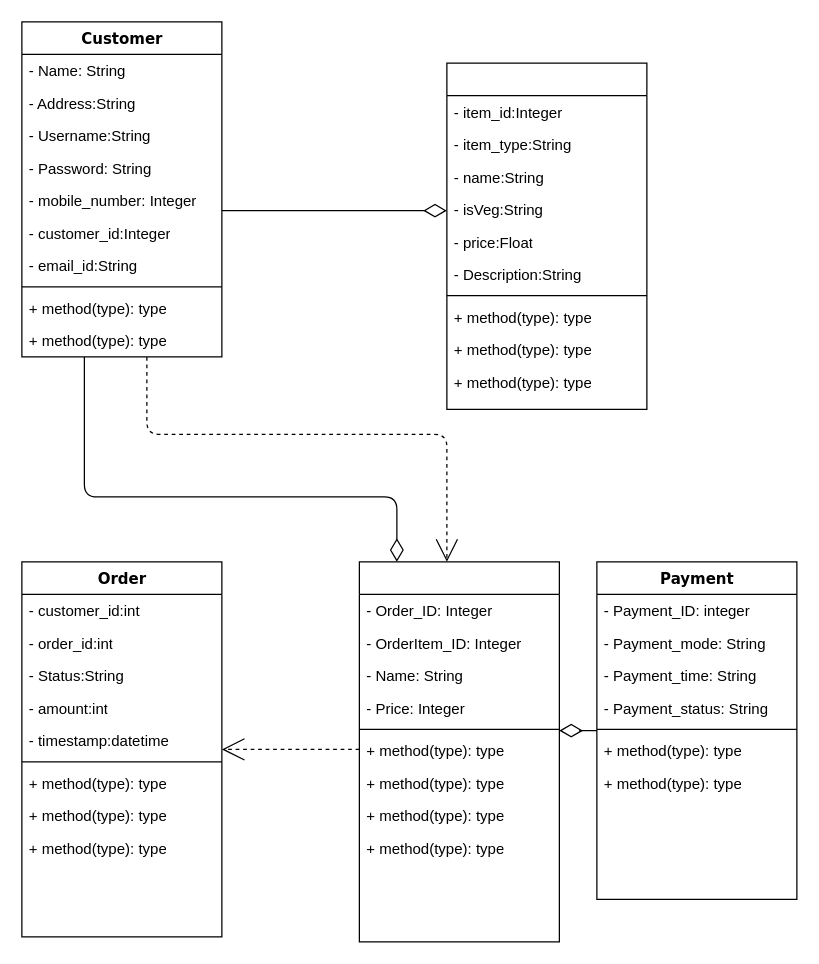
Some shapes in this 819 by 964 pixel diagram are drawn without their labels. Each missing label, with the box of its shape:
Food Item: (446, 62, 647, 409)
Order Items: (358, 561, 559, 942)
